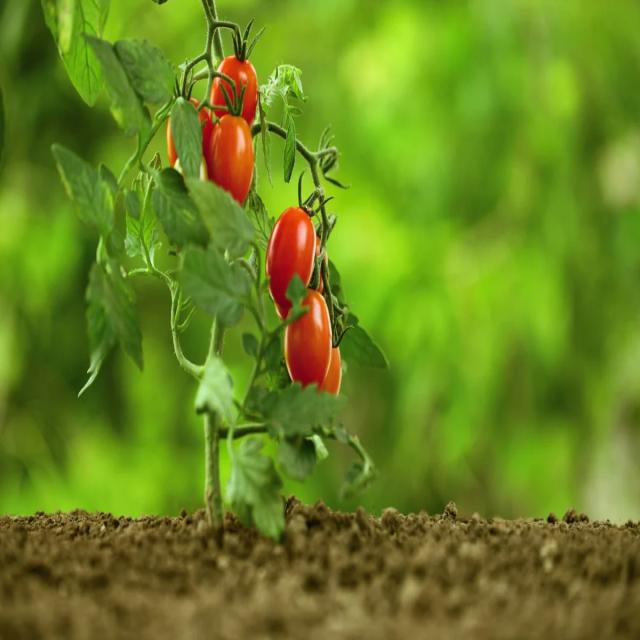overripe: (262, 202, 320, 314), (284, 292, 332, 396), (210, 104, 255, 208), (211, 48, 260, 125)
